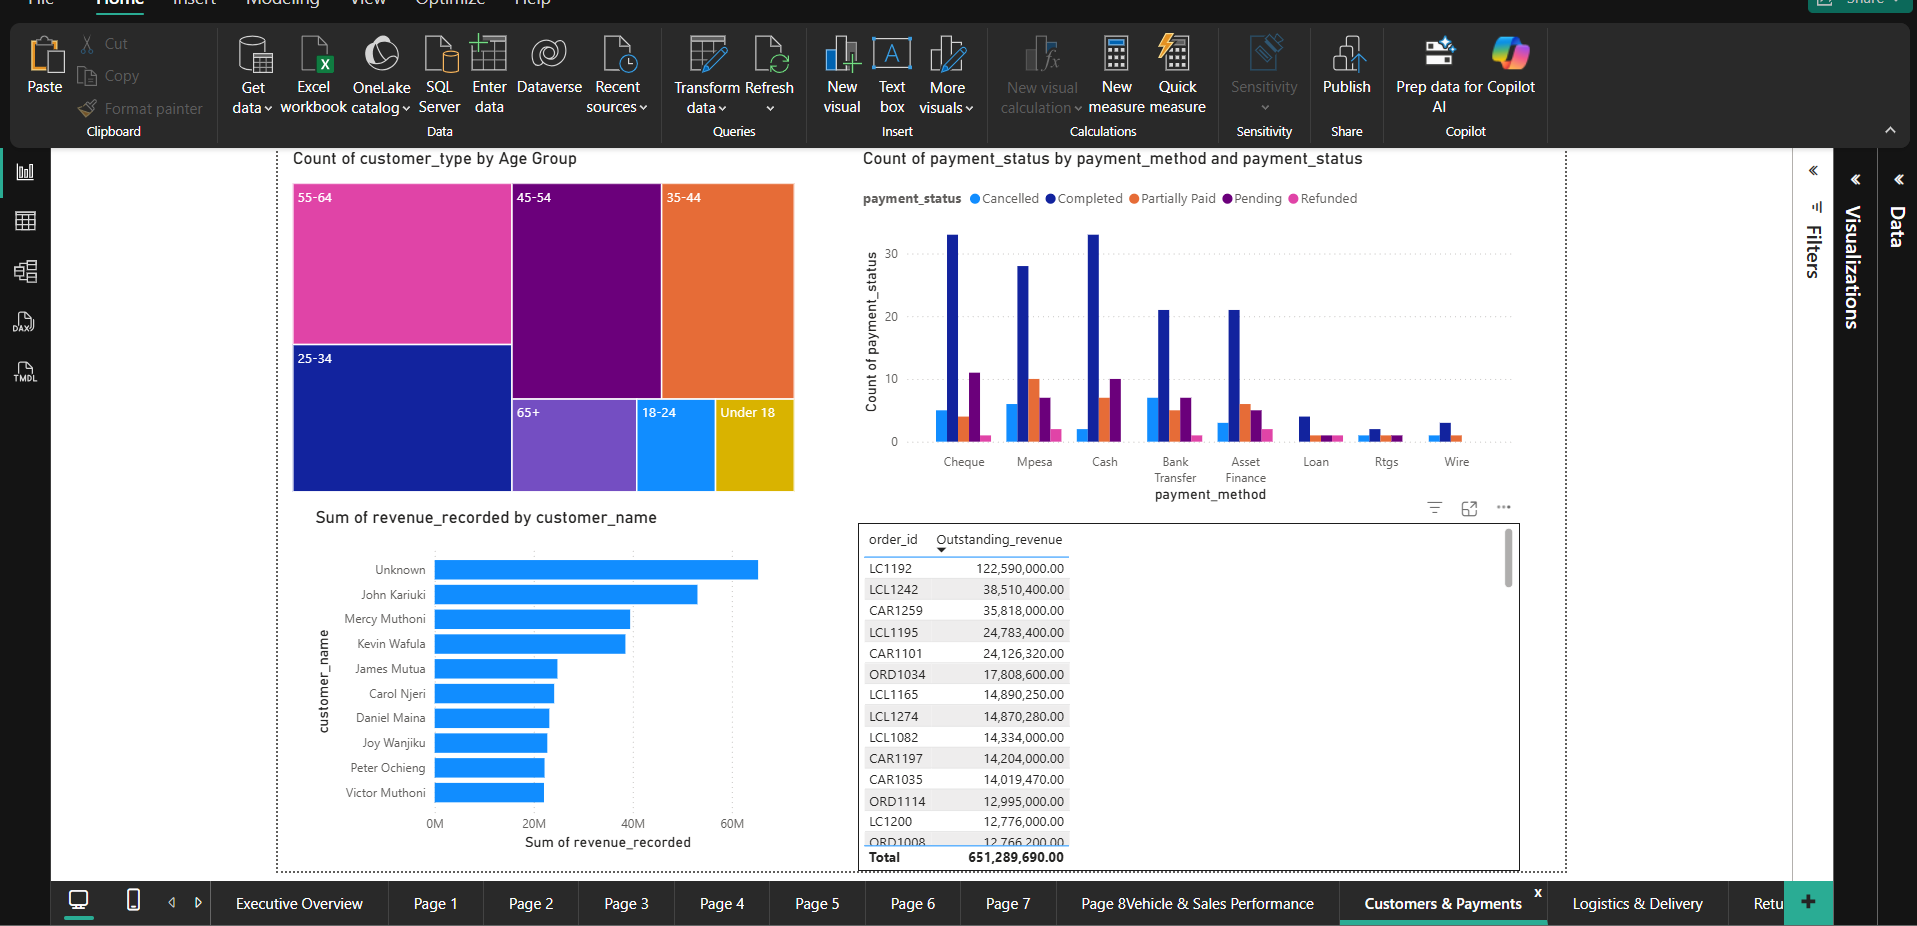

Layout of this report page (visuals, bound fields, positions):
{"tool":"powerbi","page":{"name":"Customers & Payments","canvas":[1280,720],"ordinal":9},"visuals":[{"type":"treemap","fields":{"Details":["logistics car_sales.Age Group"],"Values":["CountNonNull(logistics car_sales.customer_type)"]},"box":[9.6,0,509.1,347.2],"z":0},{"type":"clusteredBarChart","fields":{"Category":["logistics car_sales.customer_name"],"Y":["Sum(logistics car_sales.revenue_recorded)"]},"box":[32.9,356.8,485.8,347.2],"z":1000},{"type":"clusteredColumnChart","fields":{"Category":["logistics car_sales.payment_method"],"Y":["CountNonNull(logistics car_sales.payment_status)"],"Series":["logistics car_sales.payment_status"]},"box":[577.7,0,657.3,356.8],"z":2000},{"type":"tableEx","fields":{"Values":["logistics car_sales.order_id","logistics car_sales.Outstanding_revenue"]},"box":[577.7,373.2,657.3,347.2],"z":3000}]}

Visuals, with their boxes on the page's 1280x720 design canvas (x1, y1, x2, y2). These are canvas units, not pixel positions in the 1917x926 screenshot, which may show the page scaled, cropped or inside an application window:
treemap - logistics car_sales.Age Group x CountNonNull(logistics car_sales.customer_type): region(10, 0, 519, 347)
clusteredBarChart - logistics car_sales.customer_name x Sum(logistics car_sales.revenue_recorded): region(33, 357, 519, 704)
clusteredColumnChart - logistics car_sales.payment_method x CountNonNull(logistics car_sales.payment_status): region(578, 0, 1235, 357)
tableEx - logistics car_sales.order_id x logistics car_sales.Outstanding_revenue: region(578, 373, 1235, 720)
